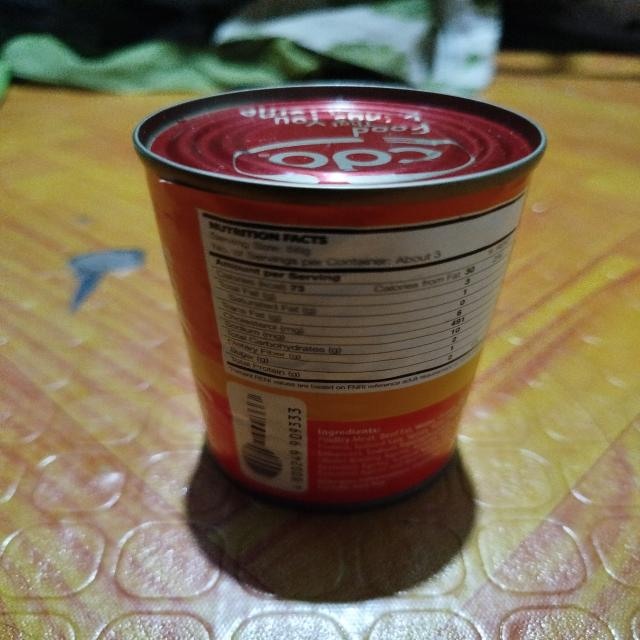metal: (113, 66, 550, 530)
